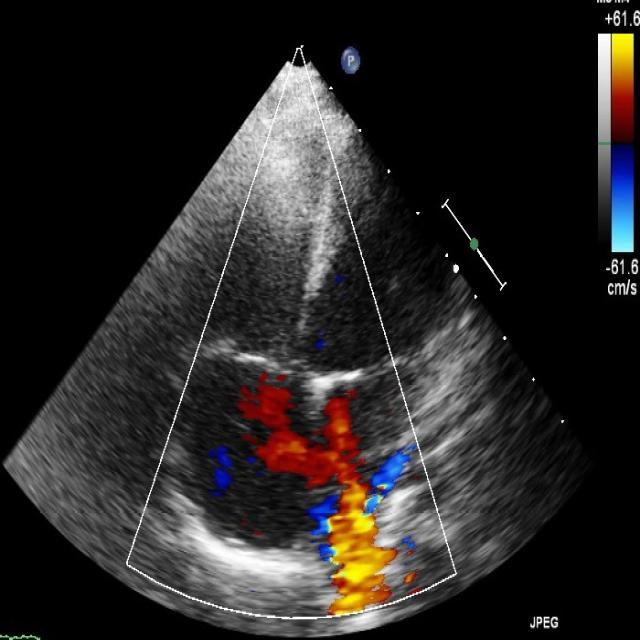ASDType2: (235, 392, 362, 486)
